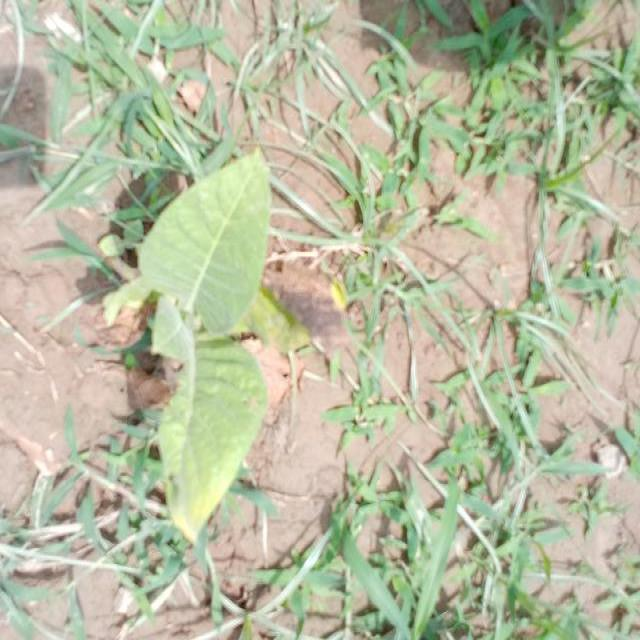crop: (140, 177, 284, 520)
